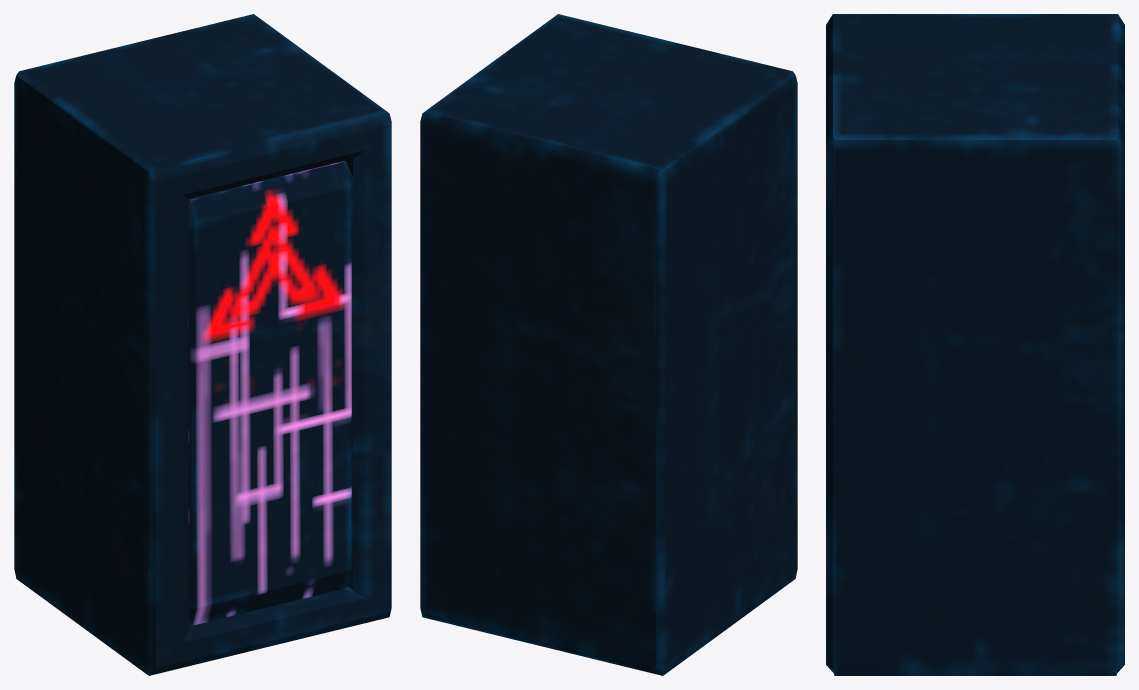
Rendered from GimmickBlock.fbx.
3 renders of one model, left to right at view 1: azimuth 30°, elevation 25°; view 2: azimuth 150°, elevation 25°; view 3: azimuth 270°, elevation 25°, orthographic. The views are drawn at different scales.
Parts seen in each view (by area): view 1: pCube15, pCube14; view 2: pCube15; view 3: pCube15.
Boxes of the visible parts, x1,y1,x2,y2 form: pCube15: (14, 14, 391, 675); pCube14: (188, 161, 352, 626); pCube15: (420, 14, 797, 675); pCube15: (826, 14, 1124, 675).
Bounding box in the file's own units: 1 × 1.99 × 1.
